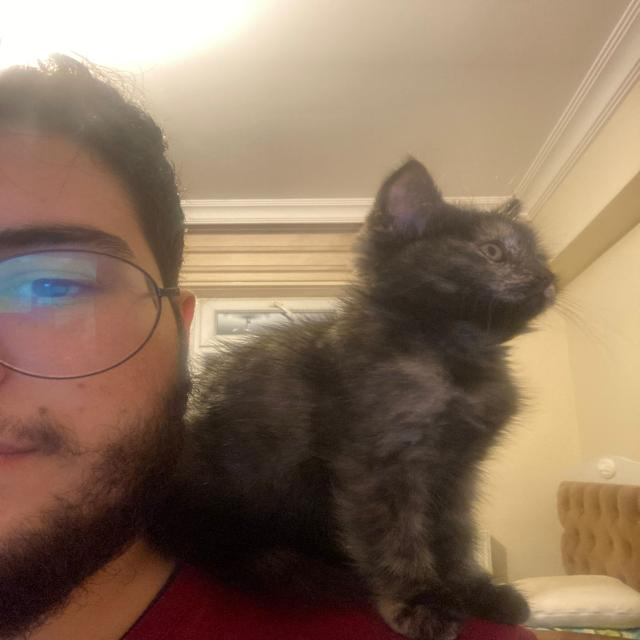authorized: (139, 154, 586, 638)
